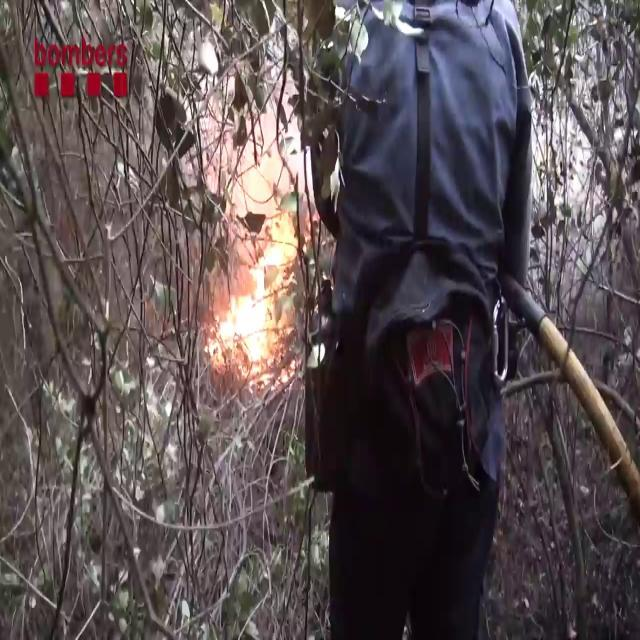Fire: (208, 148, 304, 381)
